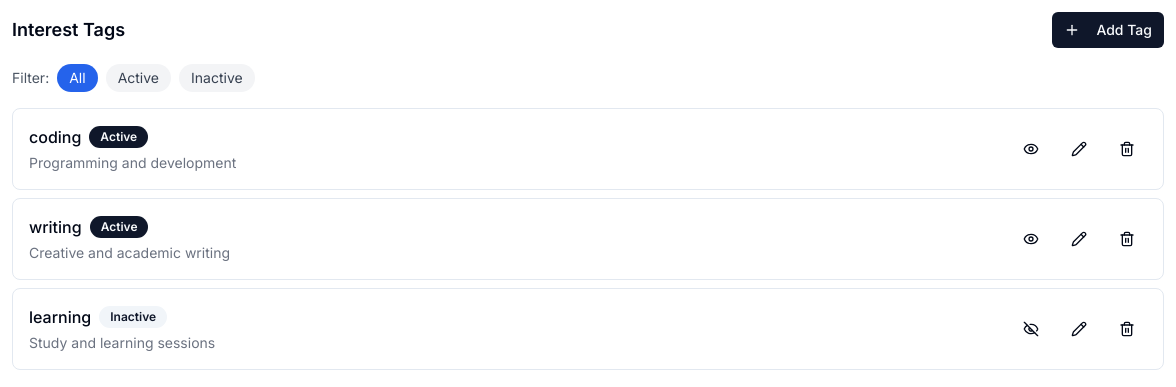
Test: InterestTagManager › should filter tags by inactive status
The width and height of the screenshot is (1176, 387).
Expected: the text "coding" is shown, [29, 125, 81, 149]
# Click "inactive" filter
What coordinates should you click on to do the following:
click the button "inactive"
I would click on:
 (217, 78)
Its box is [179, 64, 255, 92].
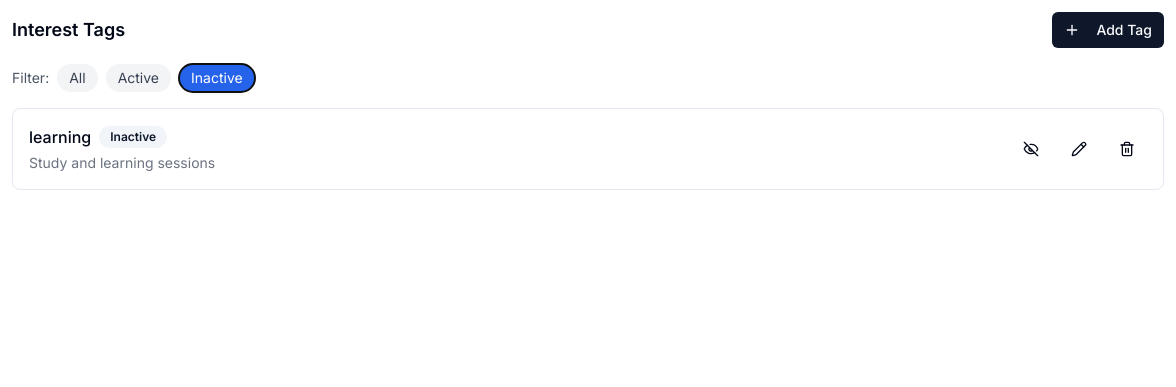
Expected: the text "learning" is shown, [29, 125, 91, 149]
Expected: the text "coding" is gone
